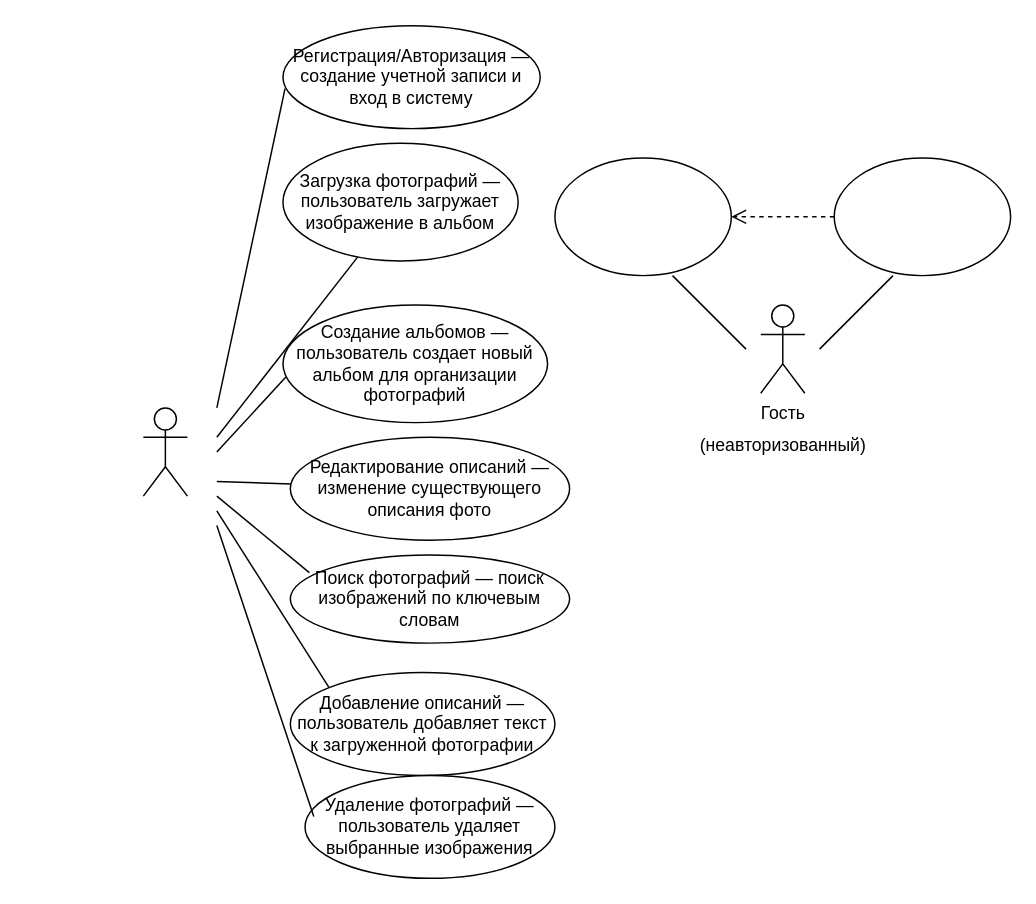
The diagram is 1036 pixels wide and 904 high, and some of its shapes have lost their labels. The shapes that lost their labels are listed below. From the top down, each one's centre as x and y in pixels, then its label:
At pixel 642 216: "Авторизоваться".
At pixel 922 216: "Зарегистироваться".
At pixel 164 451: "Пользователь".
